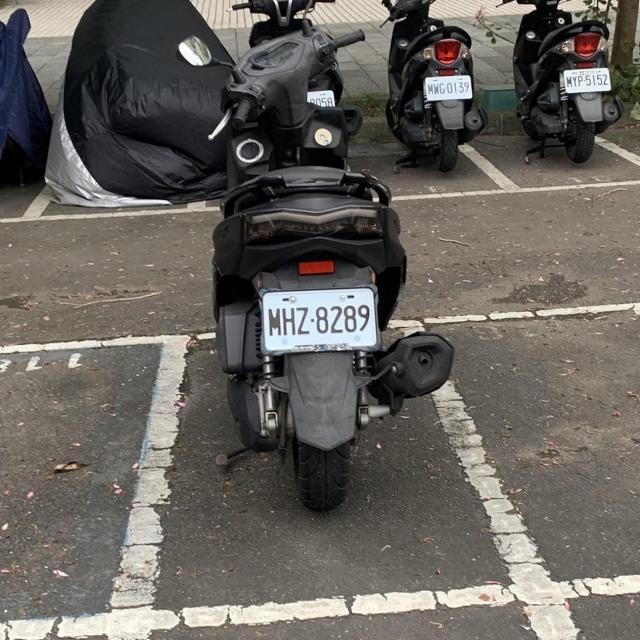W: (256, 284, 382, 358), (418, 71, 476, 104), (560, 65, 614, 95), (294, 87, 340, 119)
